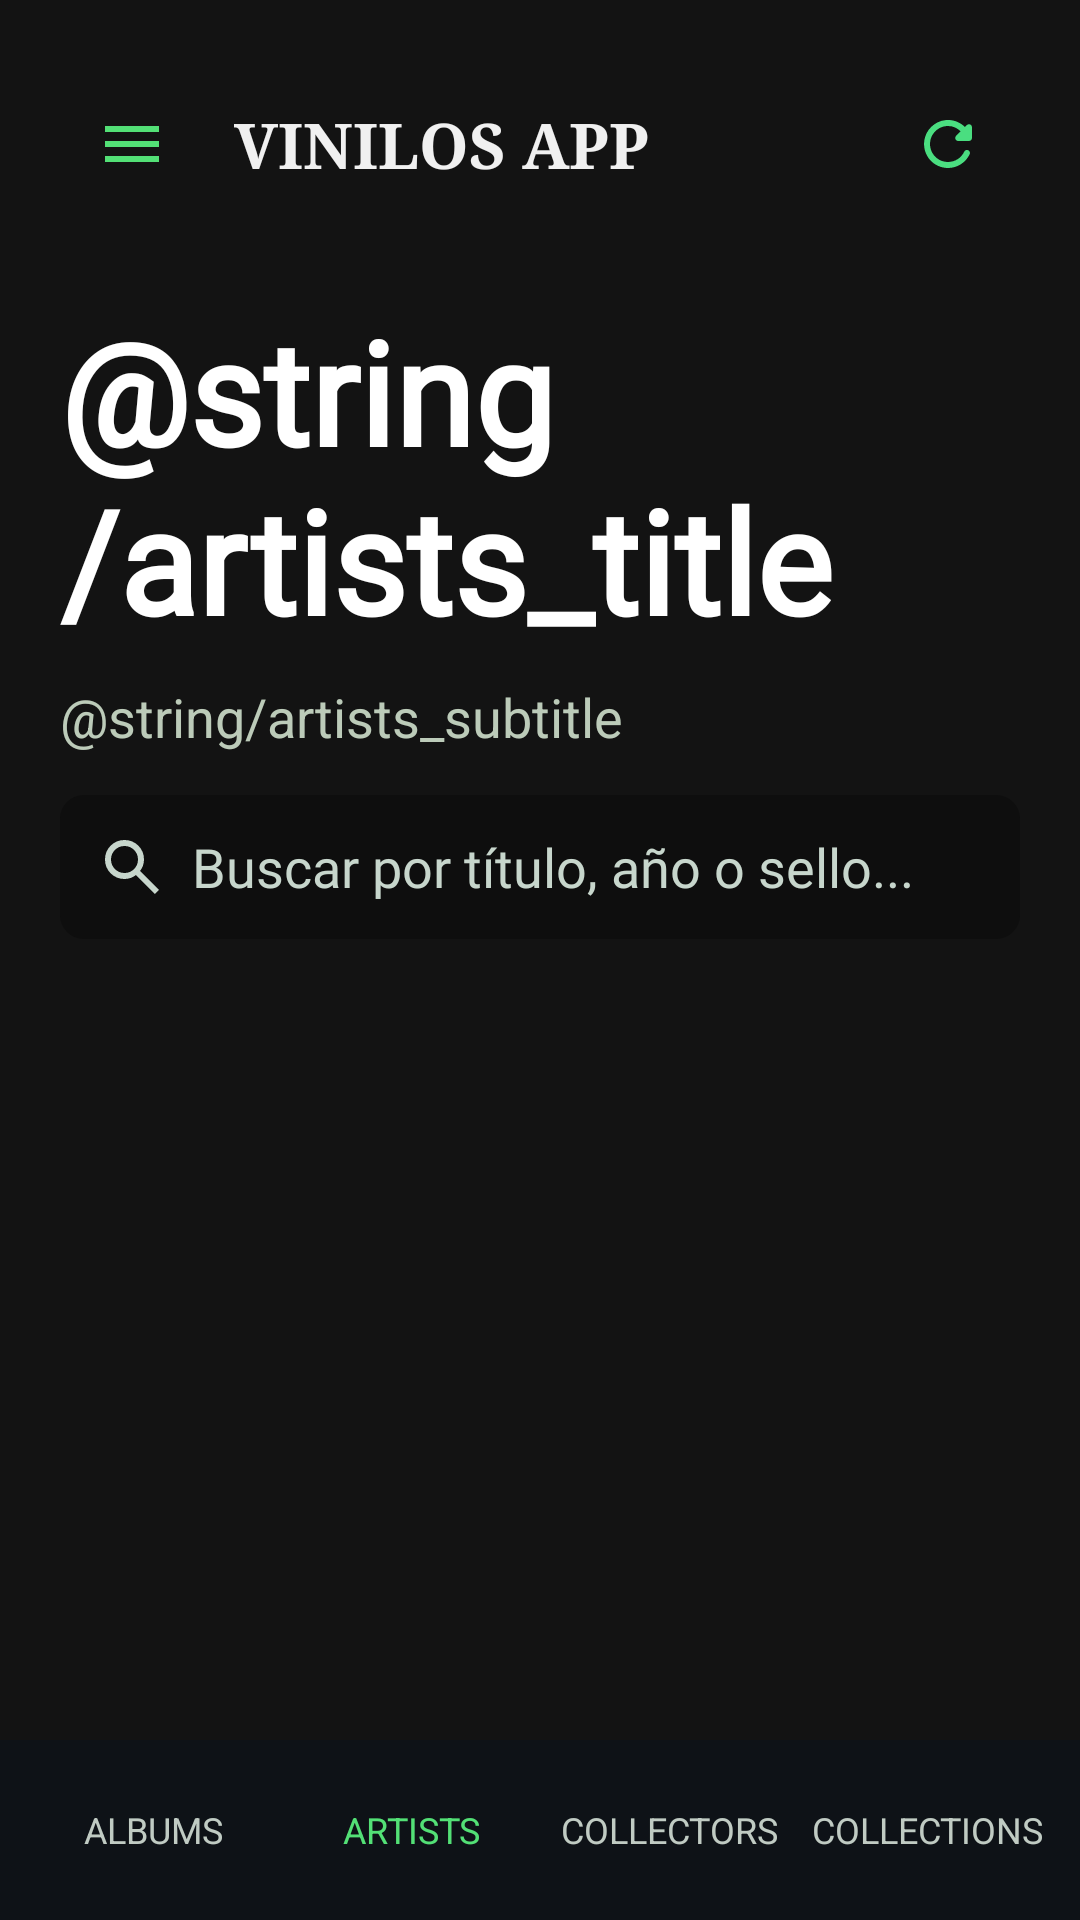

Screen size 1080px×1920px. Icon name, then its box in pixels as {"x1": x1, "y1": y1, "x2": x2, "y2": y2}:
Abrir menú de navegación: {"x1": 105, "y1": 126, "x2": 159, "y2": 162}
Actualizar contenido: {"x1": 924, "y1": 120, "x2": 972, "y2": 168}
search: {"x1": 105, "y1": 840, "x2": 159, "y2": 894}
